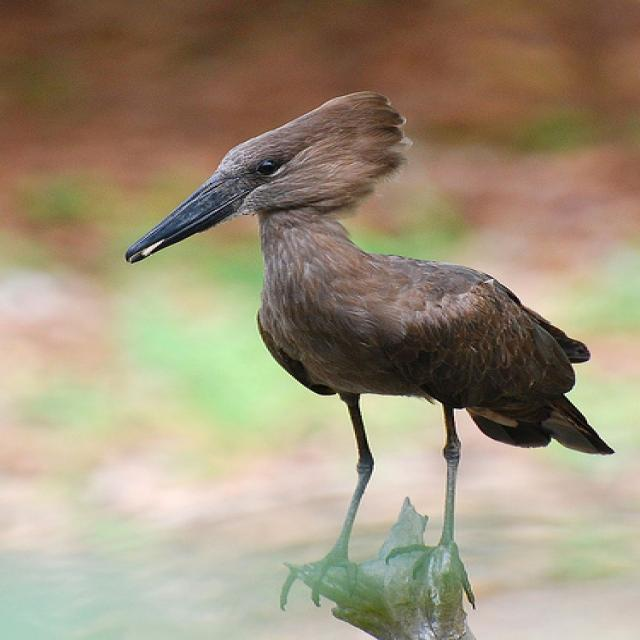bird: (124, 91, 615, 612)
